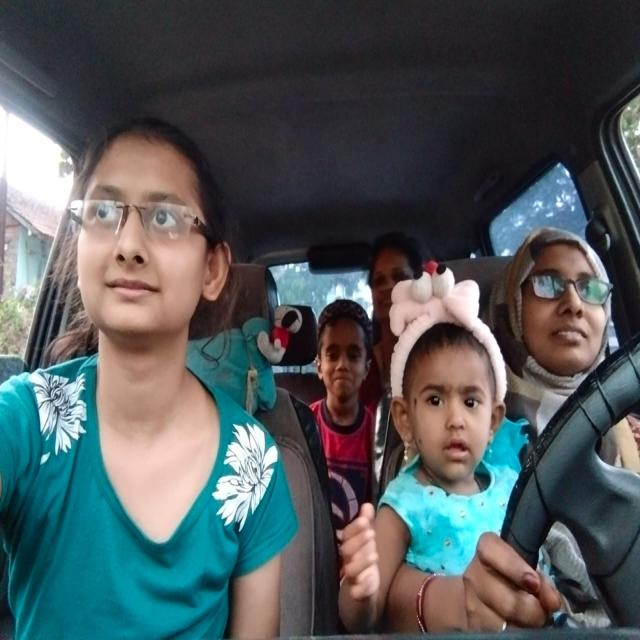child: (388, 340, 506, 473)
person: (67, 128, 232, 326), (516, 226, 610, 376), (318, 308, 369, 397), (370, 252, 413, 305)
